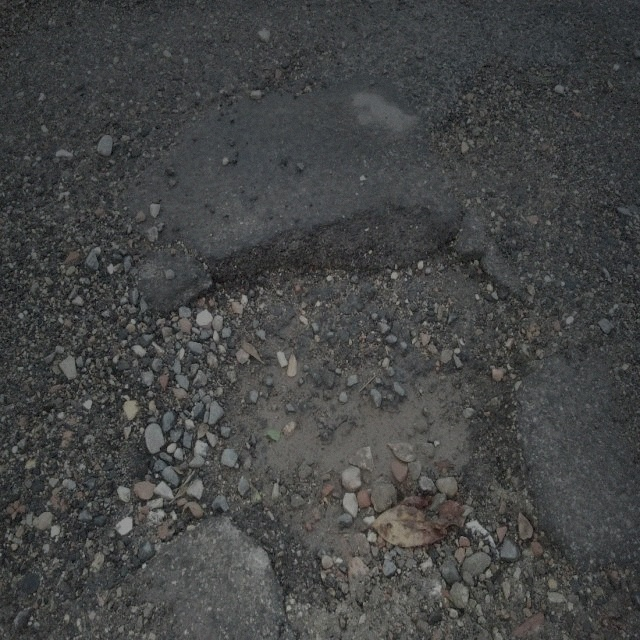pothole: (163, 227, 533, 566)
